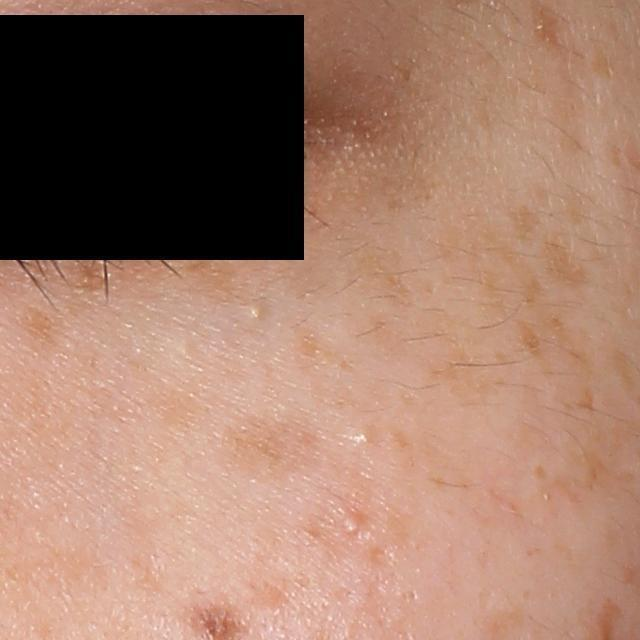melasma: (212, 411, 330, 481), (350, 244, 421, 314), (545, 311, 596, 376), (573, 446, 632, 497), (22, 296, 63, 356), (542, 241, 585, 290), (505, 204, 550, 242), (519, 320, 549, 367), (514, 269, 547, 306), (572, 385, 600, 418), (533, 463, 549, 483)
